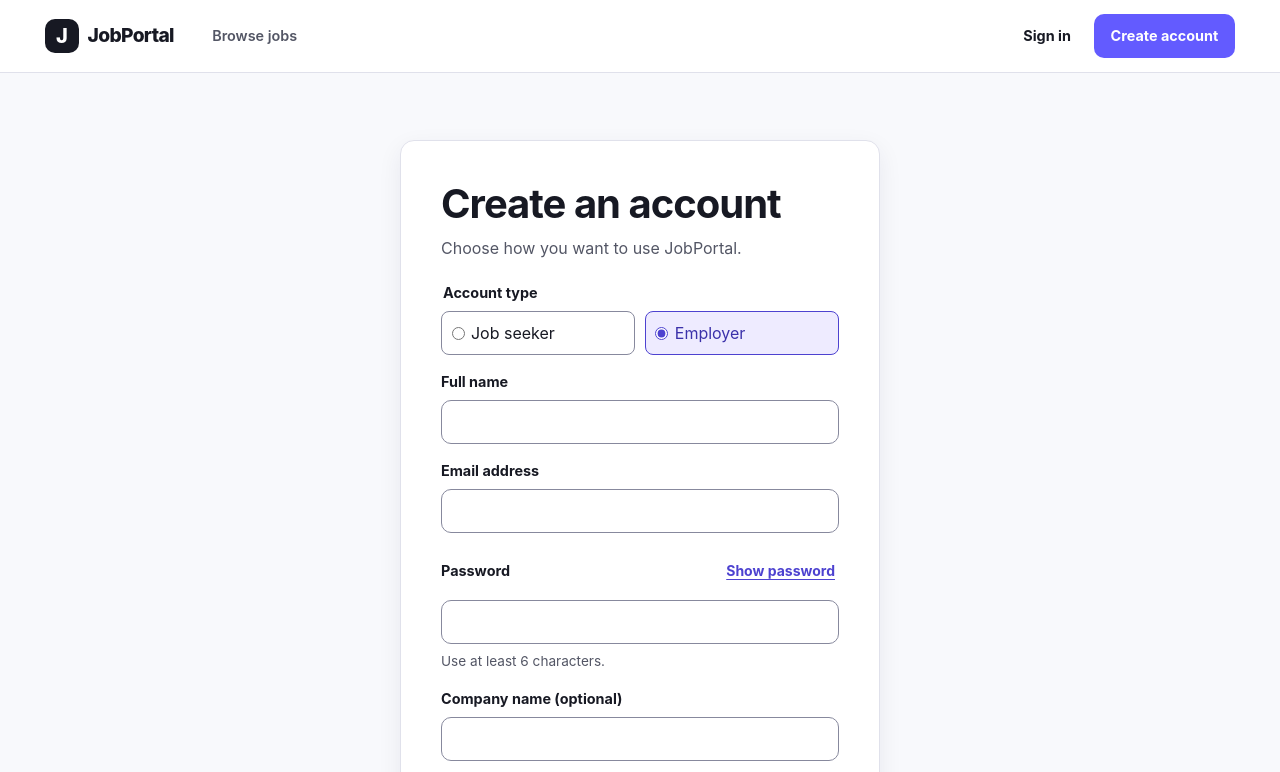
it: employer signup selects the employer role and ignores an invalid stored session
This screenshot has width=1280, height=772.
Check: the radio button labelled "Employer" is checked, box left=655, top=327, right=668, bottom=340
Check: the field labelled "Company name (optional)" is shown, box left=441, top=717, right=839, bottom=761
What coordinates should you click on to do the following:
click the radio button labelled "Job seeker"
I would click on:
 (458, 333)
Its box is left=452, top=327, right=465, bottom=340.
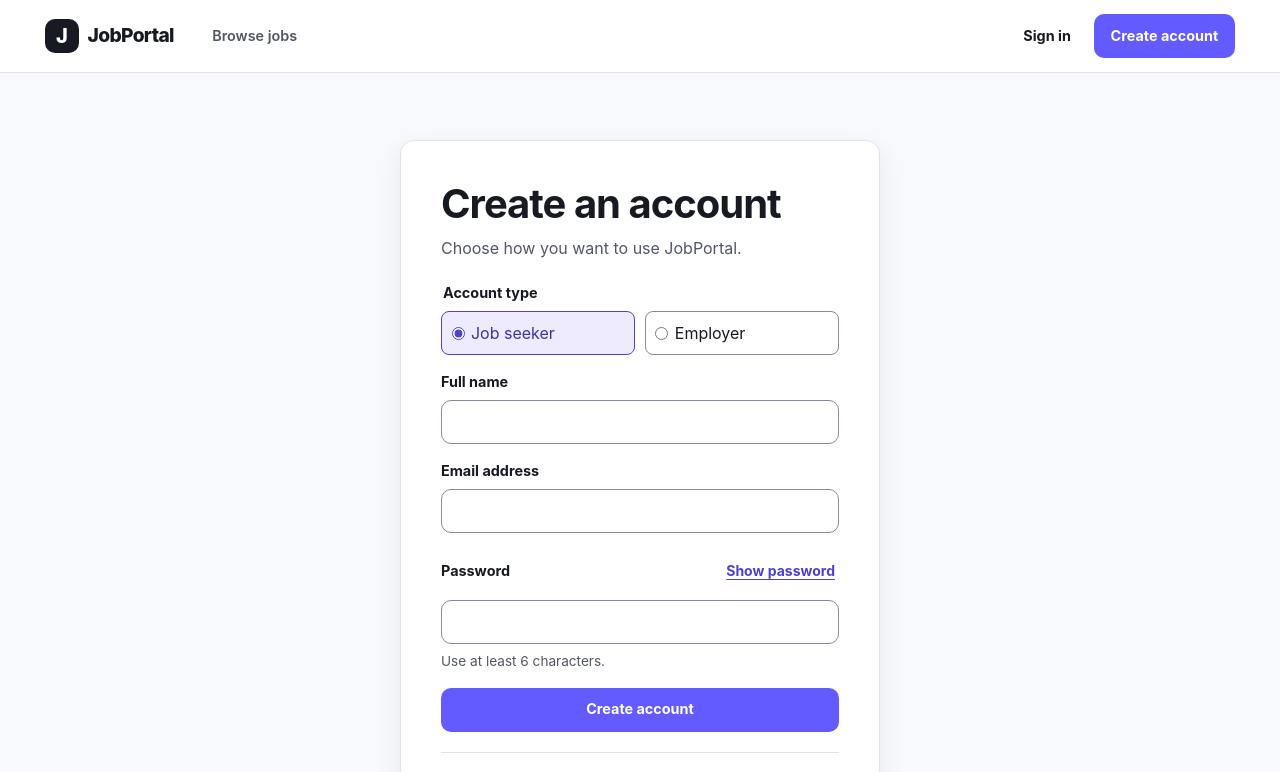
Check: the label labelled "Company name (optional)" is gone
